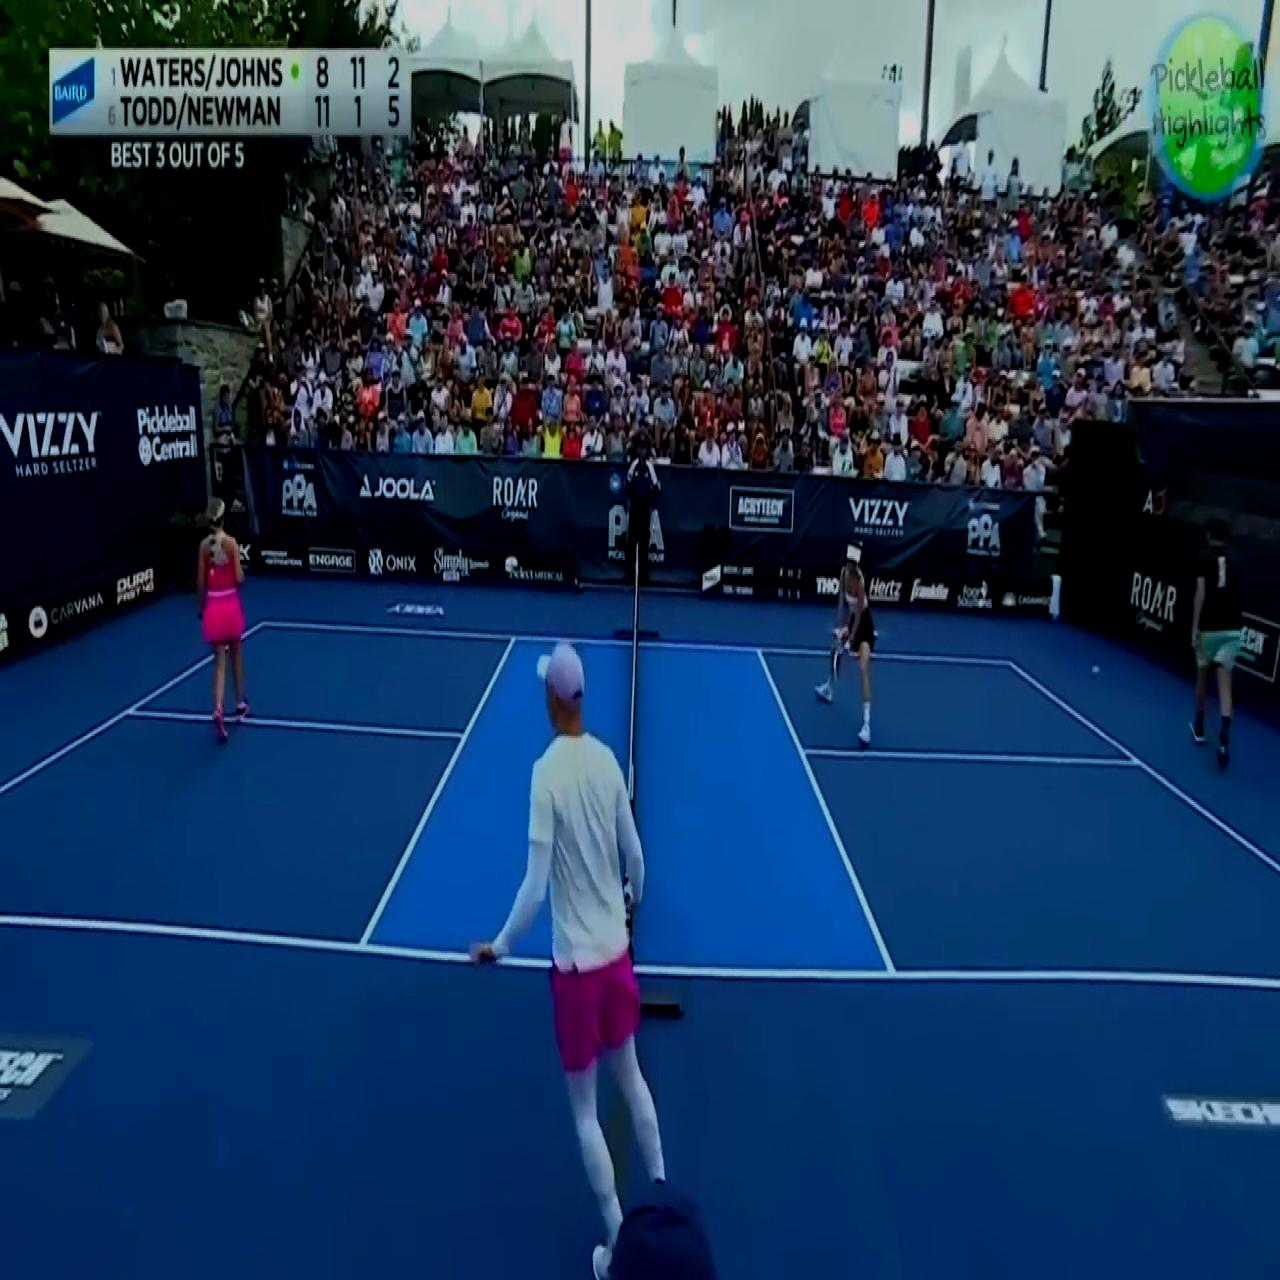Pickleball: (1089, 658, 1103, 683)
